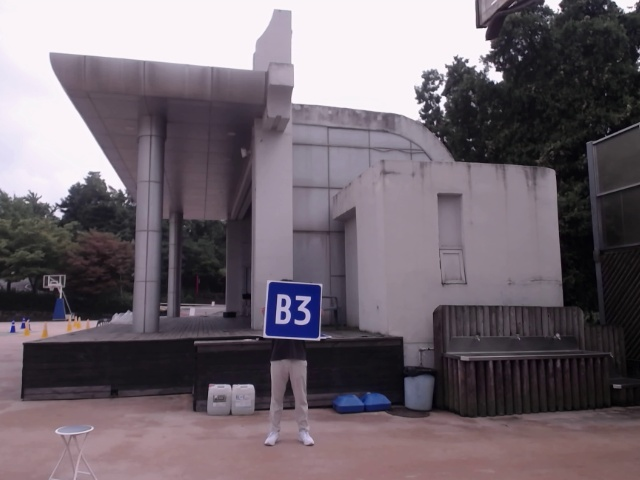delivery_b3: (265, 279, 323, 344)
